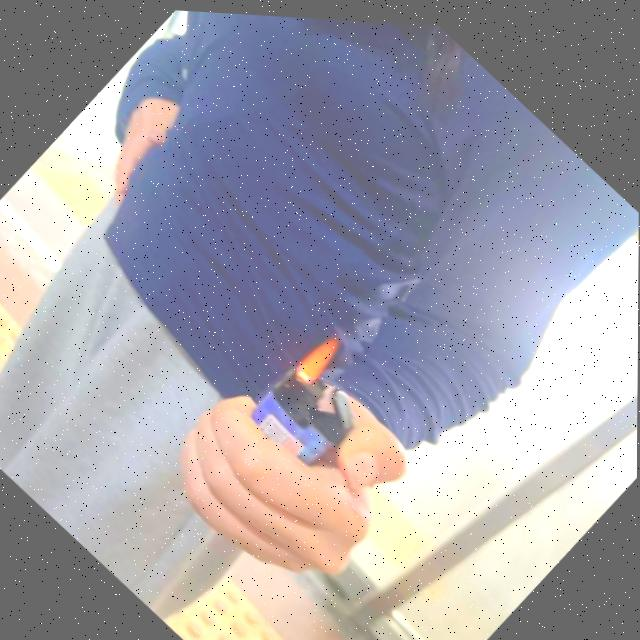Fire: (297, 327, 342, 378)
